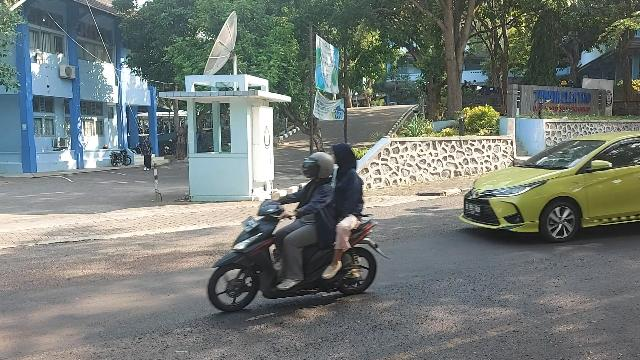helm: (304, 153, 334, 179), (333, 145, 355, 166)
motor: (208, 186, 390, 315)
